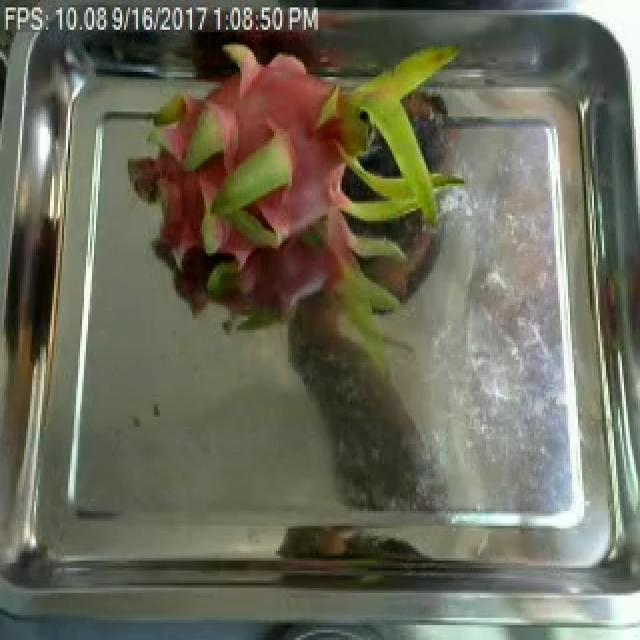fruit: (98, 2, 488, 374)
